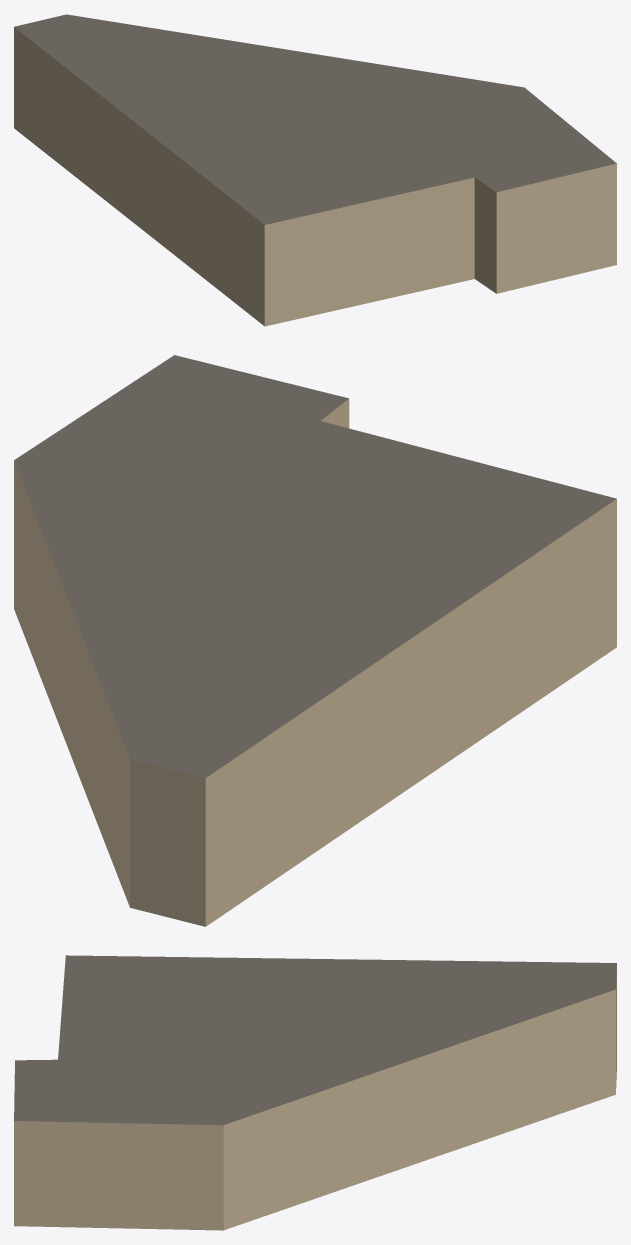
The picture shows the model from 3 angles, top to bottom: view 1: azimuth 30°, elevation 25°; view 2: azimuth 150°, elevation 25°; view 3: azimuth 270°, elevation 25°; orthographic projection. The views are drawn at different scales.
Visible parts, largest first — view 1: HP-w700256601; view 2: HP-w700256601; view 3: HP-w700256601.
Part boxes in pixels (<box>): HP-w700256601: <box>14,14,616,326</box>; HP-w700256601: <box>14,355,616,926</box>; HP-w700256601: <box>14,955,616,1230</box>.
Bounding box in the file's own units: 45.68 × 13.2 × 68.54.
